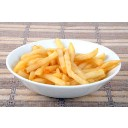frenchfries: (21, 44, 110, 84)
